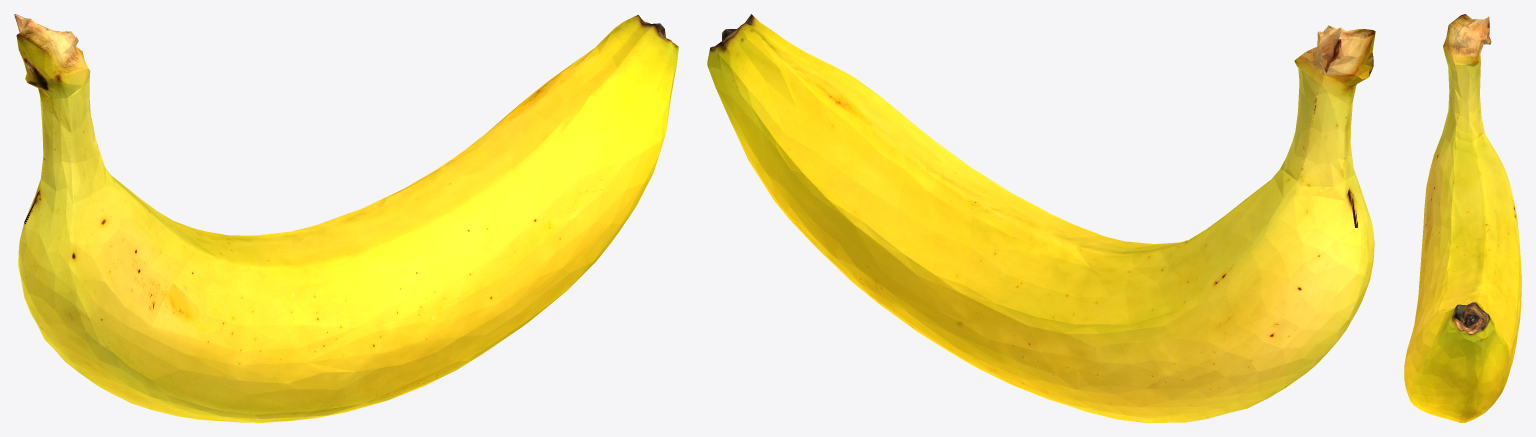
File: banana-transformed.glb
The picture shows the model from 3 angles, left to right: view 1: azimuth 30°, elevation 25°; view 2: azimuth 150°, elevation 25°; view 3: azimuth 270°, elevation 25°; orthographic projection. The views are drawn at different scales.
Parts seen in each view (by area): view 1: banana; view 2: banana; view 3: banana.
Boxes of the visible parts, x1,y1,x2,y2 form: banana: (14, 14, 678, 422); banana: (707, 14, 1375, 422); banana: (1404, 14, 1521, 422).
Size of the model in its own units: 6.79 by 4.44 by 1.61.
Materials: 1 (1 with a texture image).
